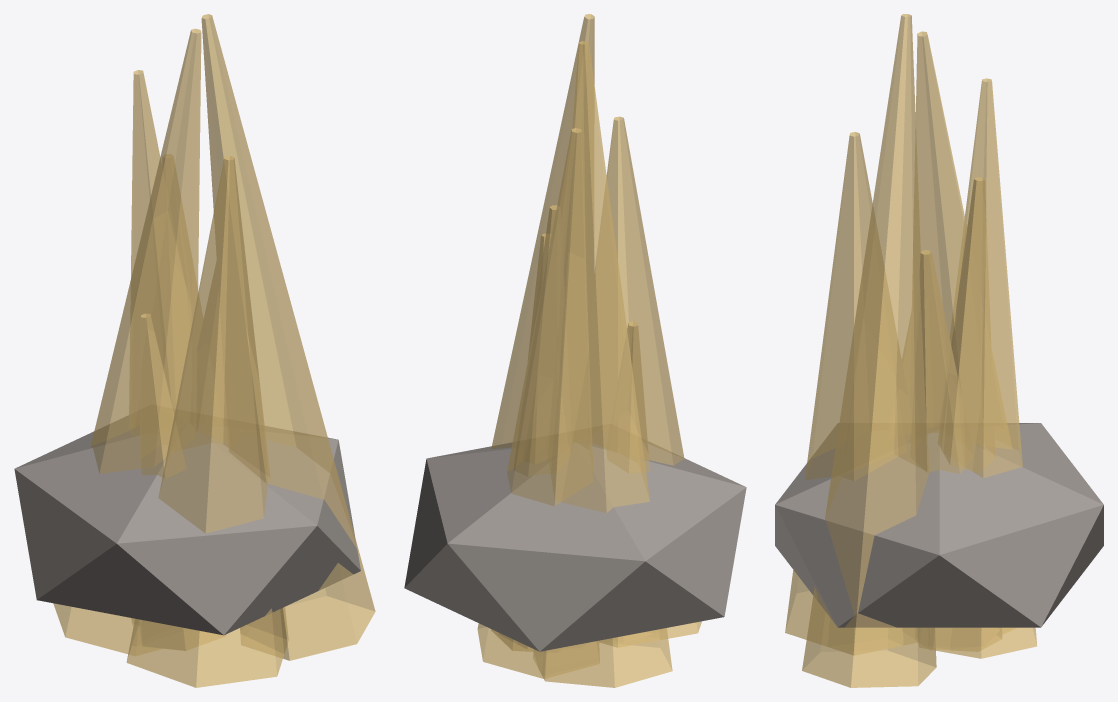
The model's file is variant_crystal_amber.glb.
The picture shows the model from 3 angles, left to right: view 1: azimuth 30°, elevation 25°; view 2: azimuth 150°, elevation 25°; view 3: azimuth 270°, elevation 25°; orthographic projection.
Parts seen in each view (by area): view 1: Crystal; view 2: Crystal; view 3: Crystal.
Boxes of the visible parts, <box> form: Crystal: <box>14,14,375,687</box>; Crystal: <box>404,14,746,687</box>; Crystal: <box>775,14,1103,687</box>.
Size of the model in its own units: 0.6261 by 1.25 by 0.5954.
